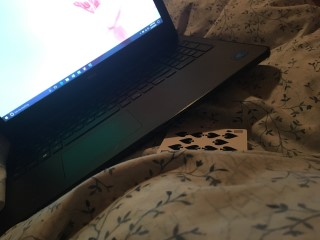TenOfSpades: (157, 128, 247, 153)
